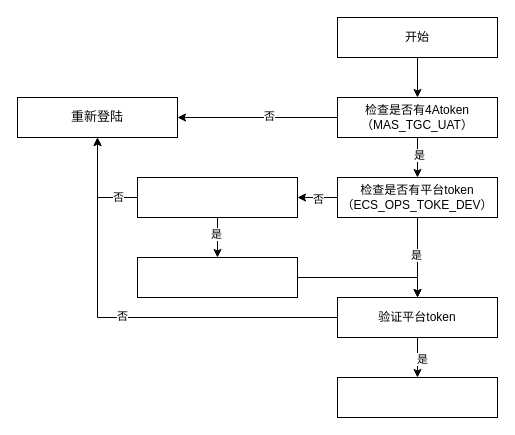
Some shapes in this 515 by 435 pixel diagram are drawn without their labels. Here are the shapes that lost their labels. From the top down, the centre of each, then its label:
point (217, 197): 验证4Atoken
point (217, 277): 生成平台token 并Set-Cookie
point (417, 397): 跳转管理界面
